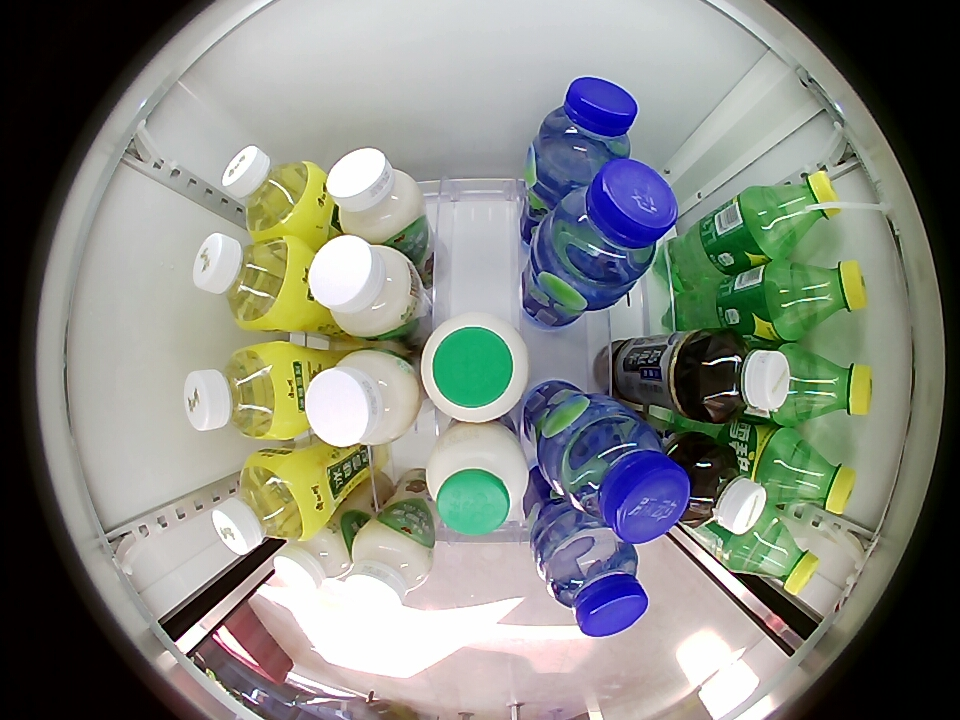bingtangxueli: (184, 342, 301, 441), (193, 232, 305, 331), (211, 453, 317, 556), (221, 146, 322, 239)
liziyuan: (426, 423, 531, 537), (421, 314, 529, 422)
maidong: (543, 159, 680, 293), (554, 413, 691, 544), (544, 528, 649, 638), (535, 77, 639, 183)
wulongcha: (691, 331, 790, 423), (674, 441, 768, 535)
xuebi-b: (757, 170, 841, 252), (738, 513, 820, 596), (773, 434, 856, 515), (782, 259, 866, 333), (791, 347, 873, 422)
yousuanru: (306, 346, 421, 449), (308, 233, 418, 340), (327, 147, 425, 243), (348, 525, 433, 614), (273, 525, 352, 599)
